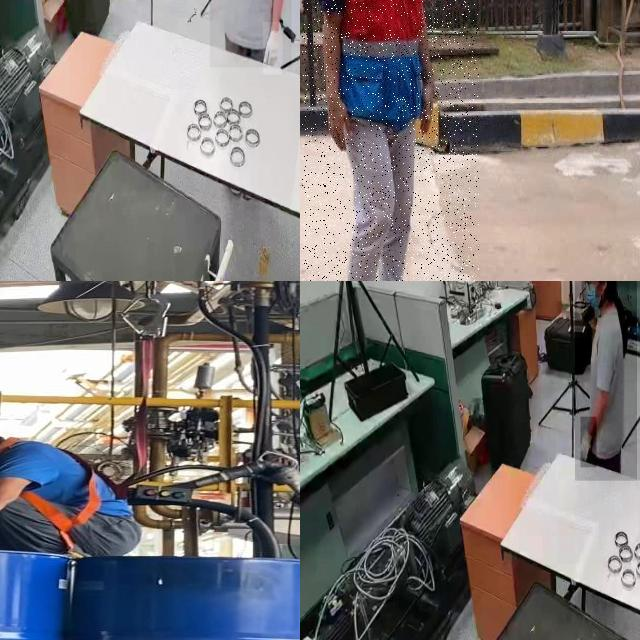Harness: (0, 436, 115, 556)
face_mask: (581, 281, 602, 307)
hand_glove: (263, 22, 283, 75), (581, 417, 597, 468)
person: (301, 0, 447, 281), (574, 281, 637, 481), (210, 0, 292, 68)
vest: (325, 0, 434, 130)
